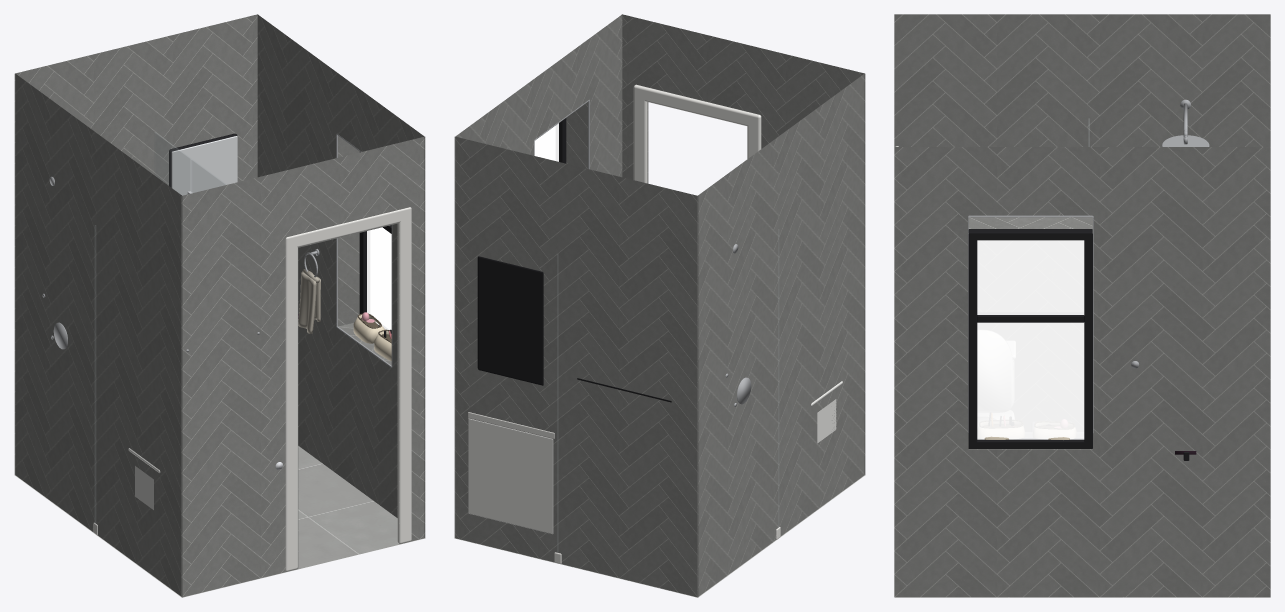
File: bathroom-umM5mBaM.glb
3 renders of one model, left to right at view 1: azimuth 30°, elevation 25°; view 2: azimuth 150°, elevation 25°; view 3: azimuth 270°, elevation 25°, orthographic. The views are drawn at different scales.
Parts seen in each view (by area): view 1: Tile_west, Tile_south, Tile_east, Tile_north, Casing_bathroom-door_1, Floor_bathroom, Window_window-bathroom_recess, Wall_VanityMirror_glass, Shower_glass, Window_window-bathroom_frost, Wall_TowelRing_towel, Wall_LedgeBags (+2 smaller); view 2: Tile_north, Tile_west, Tile_south, Tile_east, Vanity_body, Wall_VanityMirror_frame, Casing_bathroom-door_1, Window_window-bathroom_recess, Toilet_body, Window_window-bathroom_frost, Shower_glass, Vanity_top; view 3: Tile_east, Tile_west, Window_window-bathroom_frost, Window_window-bathroom_frame, Window_window-bathroom_recess, Wall_ShowerFixtures.
Part boxes in pixels (<box>): Tile_west: <box>15,74,182,597</box>; Tile_south: <box>181,136,425,597</box>; Tile_east: <box>257,14,424,537</box>; Tile_north: <box>14,14,257,474</box>; Casing_bathroom-door_1: <box>285,207,411,571</box>; Floor_bathroom: <box>15,446,425,597</box>; Window_window-bathroom_recess: <box>336,134,392,367</box>; Wall_VanityMirror_glass: <box>171,136,237,195</box>; Shower_glass: <box>95,132,226,523</box>; Window_window-bathroom_frost: <box>367,227,391,329</box>; Wall_TowelRing_towel: <box>298,269,320,333</box>; Wall_LedgeBags: <box>353,313,391,360</box>; Tile_north: <box>454,136,698,597</box>; Tile_west: <box>697,74,864,597</box>; Tile_south: <box>622,14,865,474</box>; Tile_east: <box>455,14,622,537</box>; Vanity_body: <box>468,418,553,534</box>; Wall_VanityMirror_frame: <box>477,256,543,385</box>; Casing_bathroom-door_1: <box>633,84,761,183</box>; Window_window-bathroom_recess: <box>534,100,589,169</box>; Toilet_body: <box>811,381,842,443</box>; Window_window-bathroom_frost: <box>534,123,558,161</box>; Shower_glass: <box>557,230,778,552</box>; Vanity_top: <box>468,412,554,438</box>; Tile_east: <box>894,147,1270,597</box>; Tile_west: <box>894,14,1270,146</box>; Window_window-bathroom_frost: <box>977,240,1084,439</box>; Window_window-bathroom_frame: <box>968,229,1092,448</box>; Window_window-bathroom_recess: <box>968,215,1093,449</box>; Wall_ShowerFixtures: <box>1161,99,1209,146</box>.
Size of the model in its own units: 1.85 by 2.6 by 1.97.
Materials: 32 (4 with a texture image).
